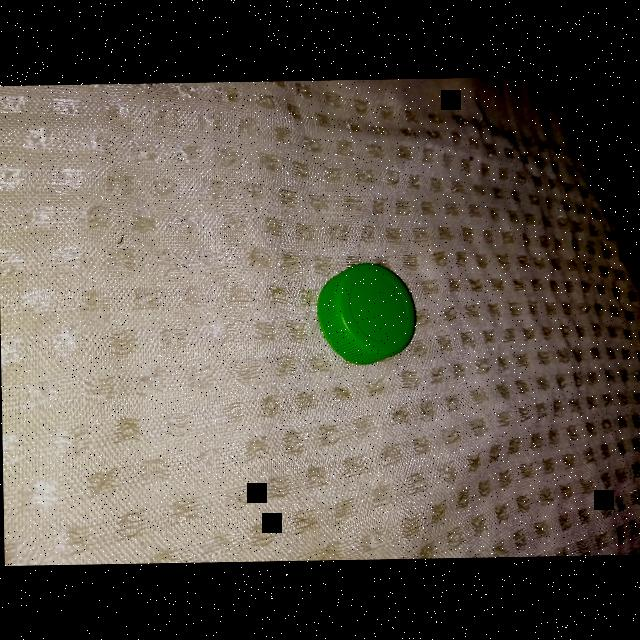plastic_bottle_cap: (316, 262, 418, 366)
